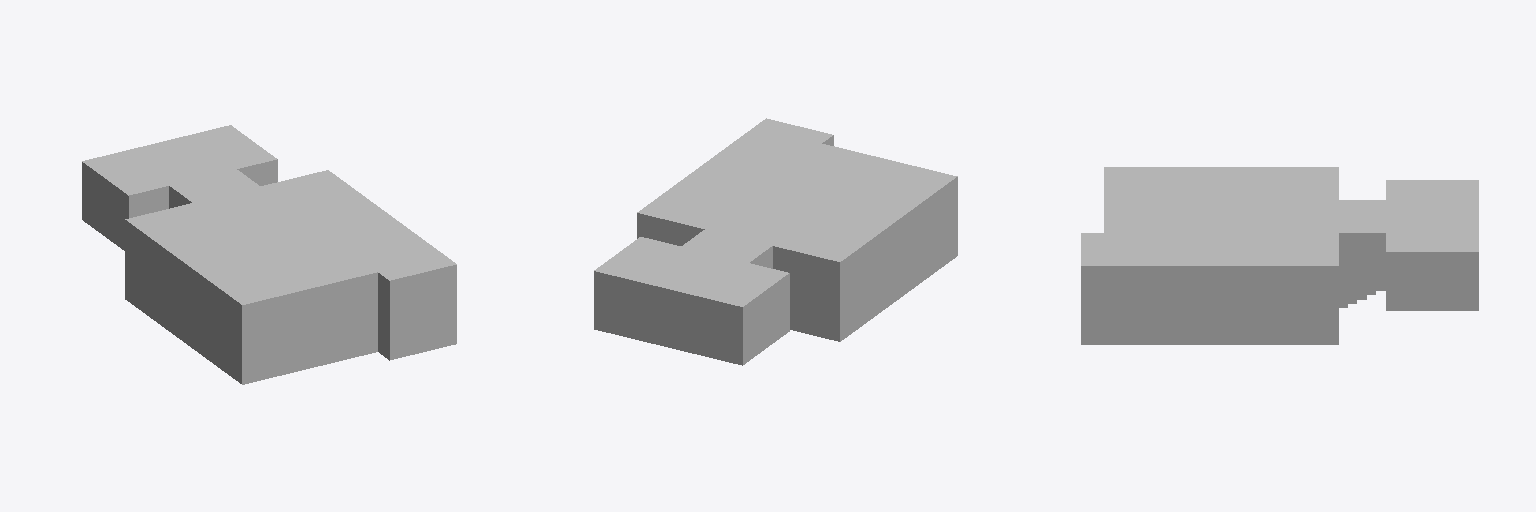
The model's file is SalleDebut.obj.
3 renders of one model, left to right at view 1: azimuth 30°, elevation 25°; view 2: azimuth 150°, elevation 25°; view 3: azimuth 270°, elevation 25°, orthographic.
Bounding box in the file's own units: 10 × 3.75 × 17.